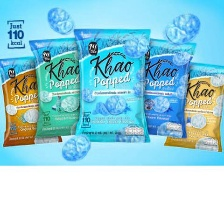snack: (69, 24, 154, 146), (25, 33, 96, 140), (137, 34, 199, 141), (159, 57, 224, 155), (0, 52, 65, 150)
